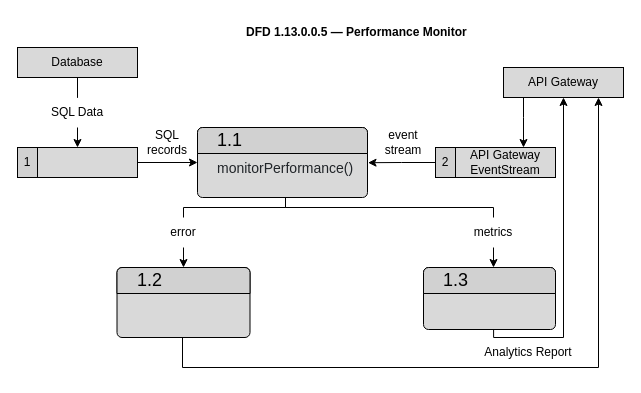
This 641x393 diagram has some shape labels left out. Here are the shapes that lost their labels. From the top down, the centre of each, then its label:
(x=87, y=162): AccessPoint
(x=183, y=302): generateAlert()
(x=489, y=298): generateReport()
